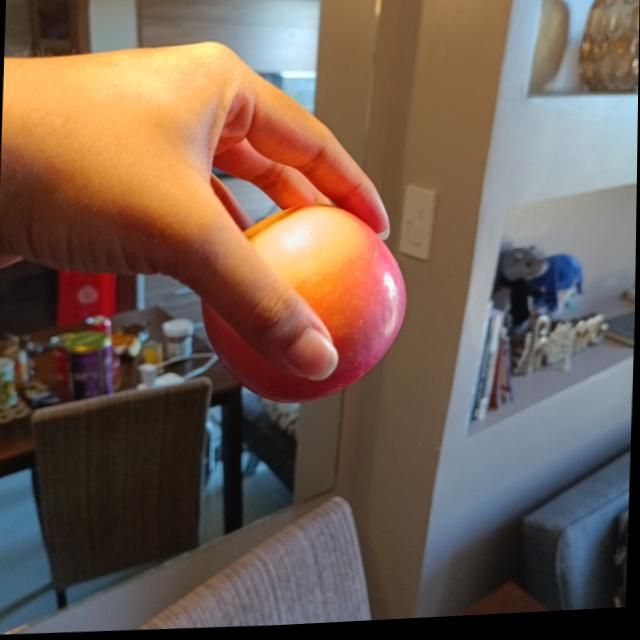apple: (198, 202, 409, 413)
